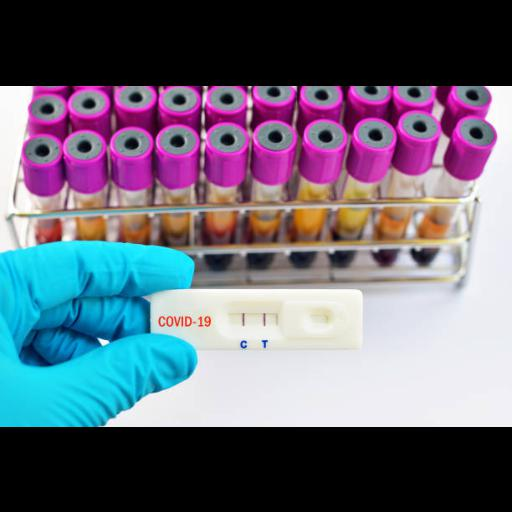Pos: (152, 288, 362, 346)
